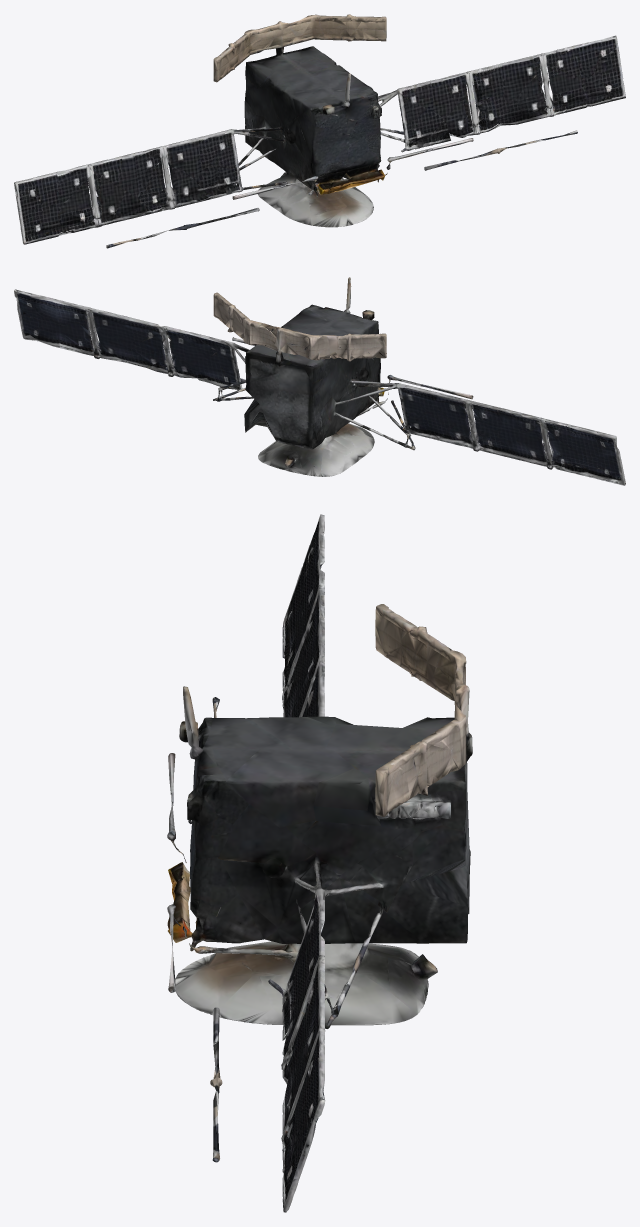
File: envision-low.glb
3 renders of one model, top to bottom at view 1: azimuth 30°, elevation 25°; view 2: azimuth 150°, elevation 25°; view 3: azimuth 270°, elevation 25°, orthographic. The views are drawn at different scales.
Bounding box in the file's own units: 1.9 × 0.4542 × 0.4171.
1 material, 1 textured.
